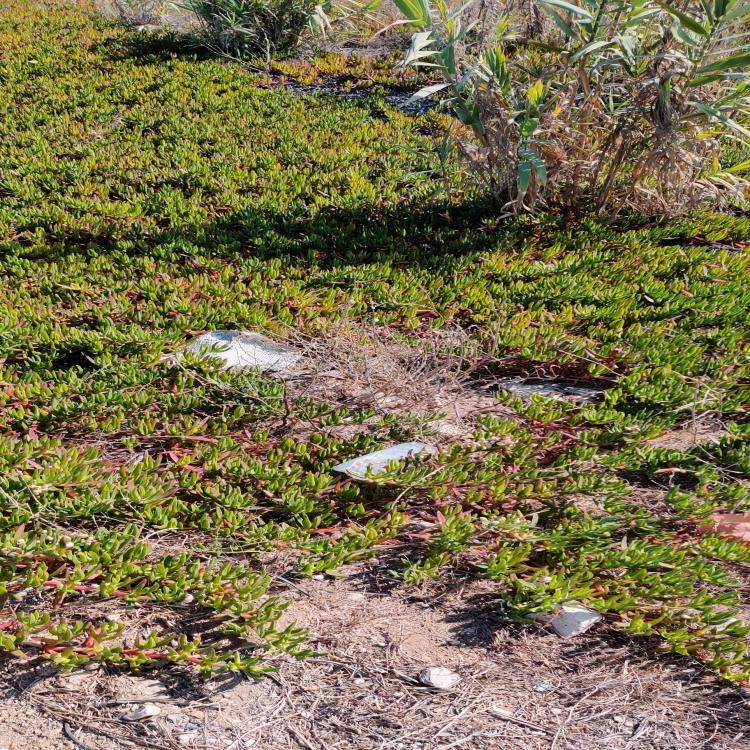Corrugated carton: (188, 330, 302, 371)
Plastic film: (331, 442, 438, 481)
